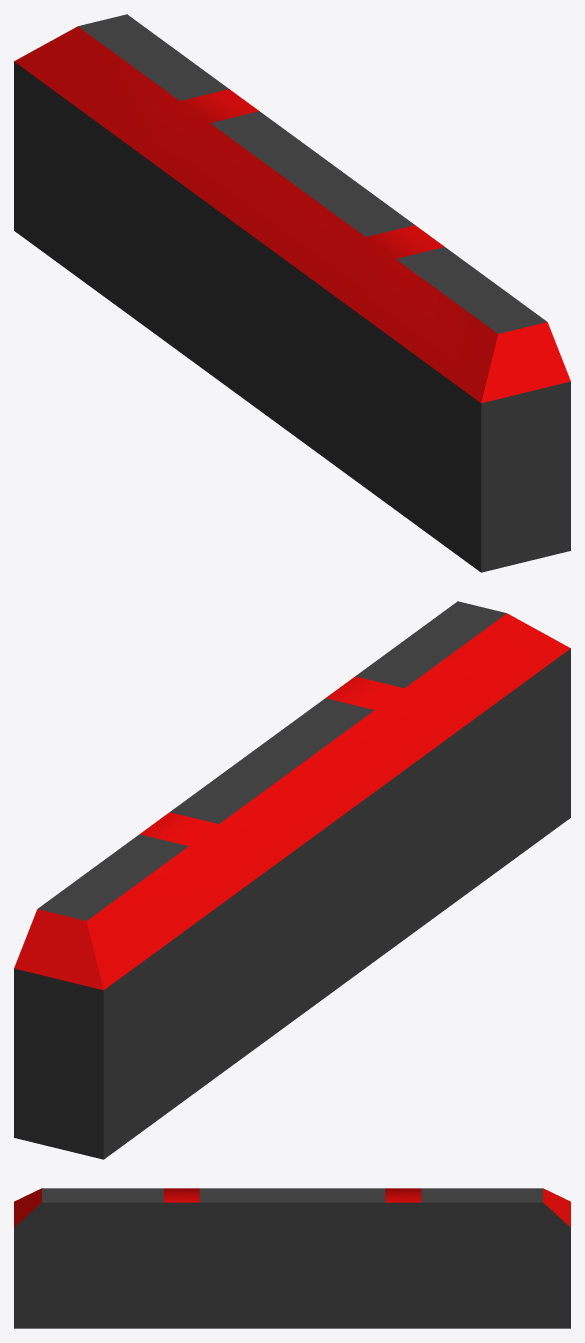
The model's file is Right Platform.fbx.
3 renders of one model, top to bottom at view 1: azimuth 30°, elevation 25°; view 2: azimuth 150°, elevation 25°; view 3: azimuth 270°, elevation 25°, orthographic. The views are drawn at different scales.
Visible parts, largest first — view 1: polySurface6; view 2: polySurface6; view 3: polySurface6.
Part boxes in pixels (left/top/right/bottom): polySurface6: left=14, top=14, right=570, bottom=572; polySurface6: left=14, top=601, right=570, bottom=1159; polySurface6: left=14, top=1188, right=570, bottom=1328.
Bounding box in the file's own units: 0.6658 × 1.5 × 6.
